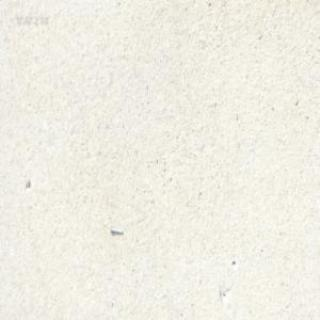Nailtrack_idkeyframe: (108, 224, 124, 234)
